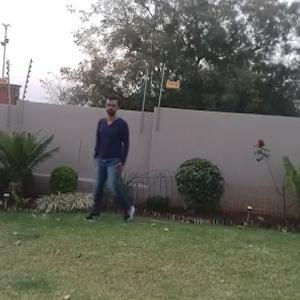follow: (88, 86, 143, 241)
